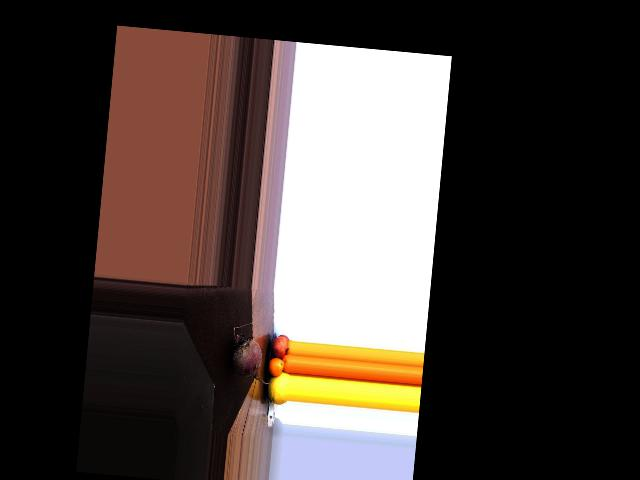beet: (228, 321, 278, 385)
